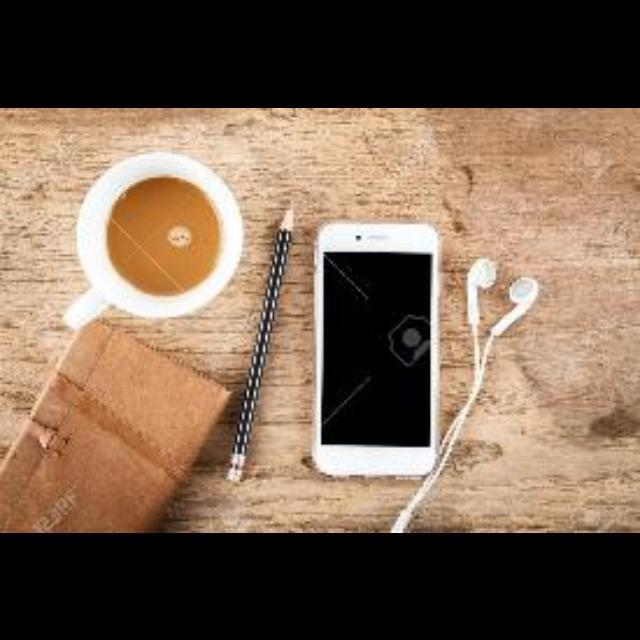PhoneUse: (312, 221, 442, 481)
SafeDriving: (164, 222, 197, 251)
